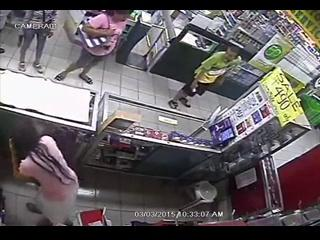Normal: (10, 128, 80, 227), (54, 10, 131, 84), (168, 48, 244, 110), (17, 10, 57, 74)
